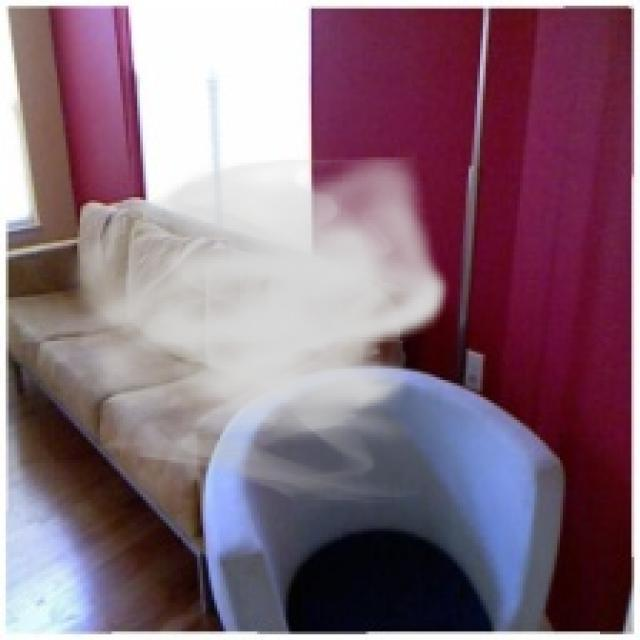Smoke: (57, 145, 452, 506)
